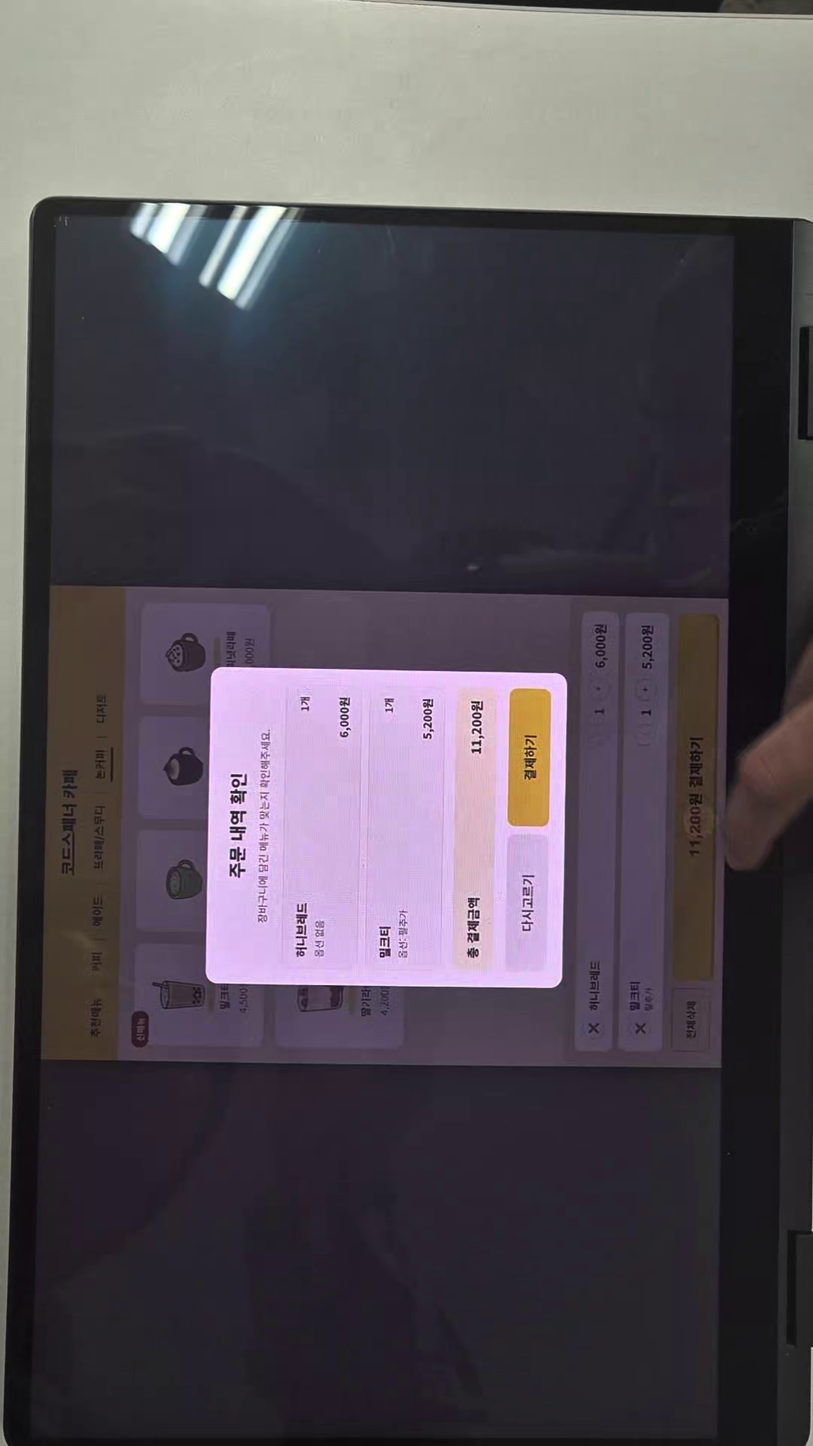action_button: (506, 834, 548, 972), (512, 690, 549, 825)
popup_modal: (208, 667, 562, 990)
